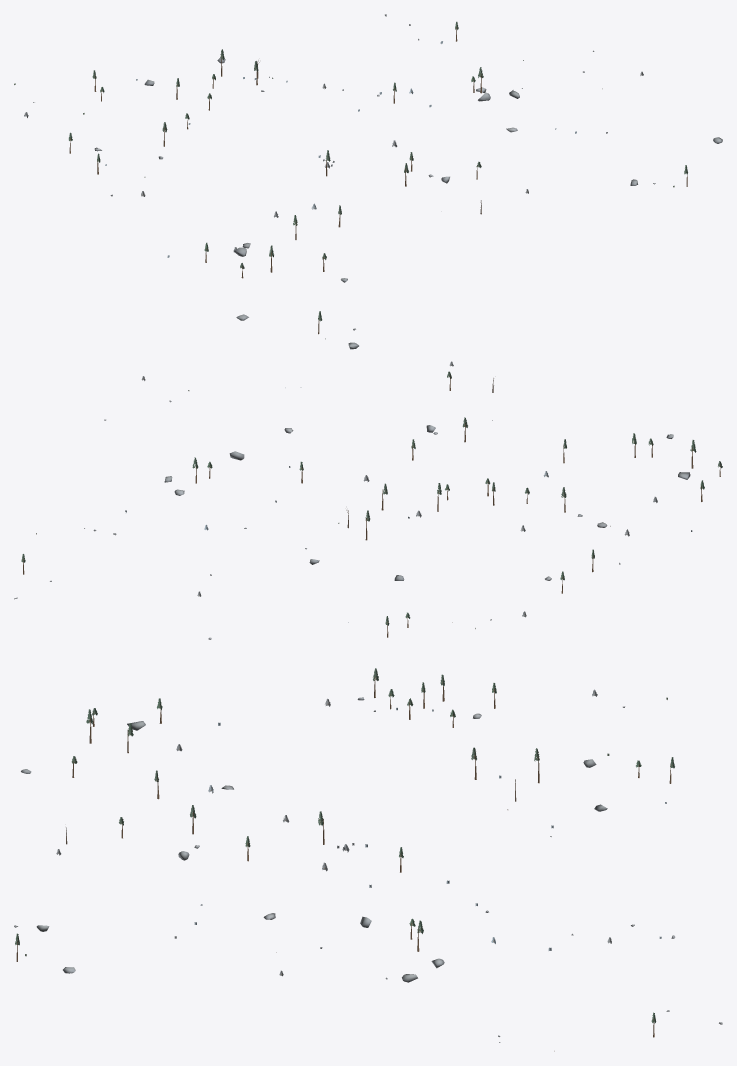
File: frost_land_scatter_c12_09_lod1.glb
3 views of the same model, one above another, from view 1: azimuth 30°, elevation 25°; view 2: azimuth 150°, elevation 25°; view 3: azimuth 270°, elevation 25° (orthographic). The views are drawn at different scales.
Parts seen in each view (by area): view 1: frost_land_scatter_c12_09_lod1; view 2: frost_land_scatter_c12_09_lod1; view 3: frost_land_scatter_c12_09_lod1.
Boxes of the visible parts, x1,y1,x2,y2 form: frost_land_scatter_c12_09_lod1: (14,14,722,282); frost_land_scatter_c12_09_lod1: (14,311,722,639); frost_land_scatter_c12_09_lod1: (14,668,722,1051).
Size of the model in its own units: 255 by 60.85 by 251.
